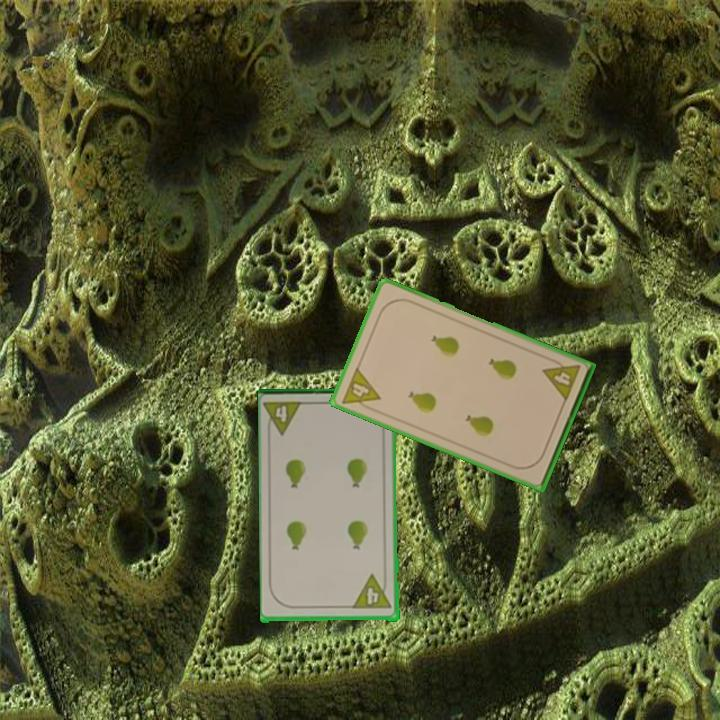4p: (338, 364, 383, 415), (539, 354, 583, 404), (350, 572, 395, 612), (262, 398, 307, 438)
